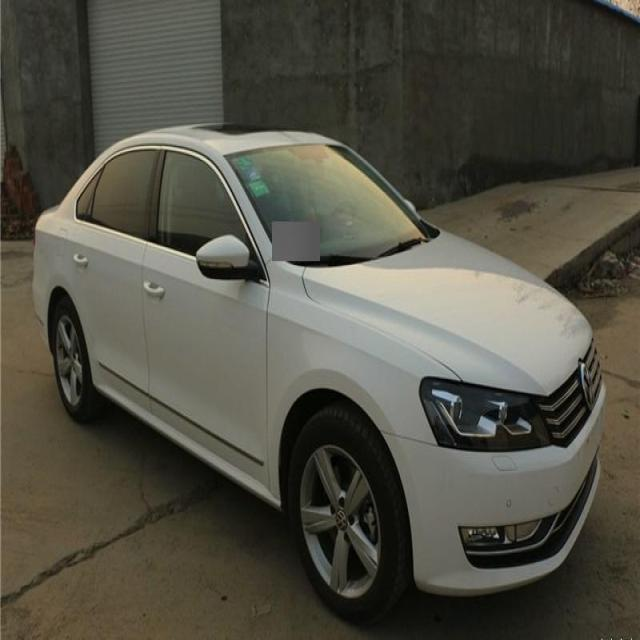door: (88, 148, 160, 393)
front_bumper: (379, 378, 606, 596)
front_glass: (224, 141, 434, 267)
front_right_side_door: (139, 138, 273, 496)
front_right_side_light: (418, 374, 552, 452)
front_right_side_mirror: (195, 232, 262, 283)
wheel: (285, 401, 411, 626), (49, 296, 106, 424)
